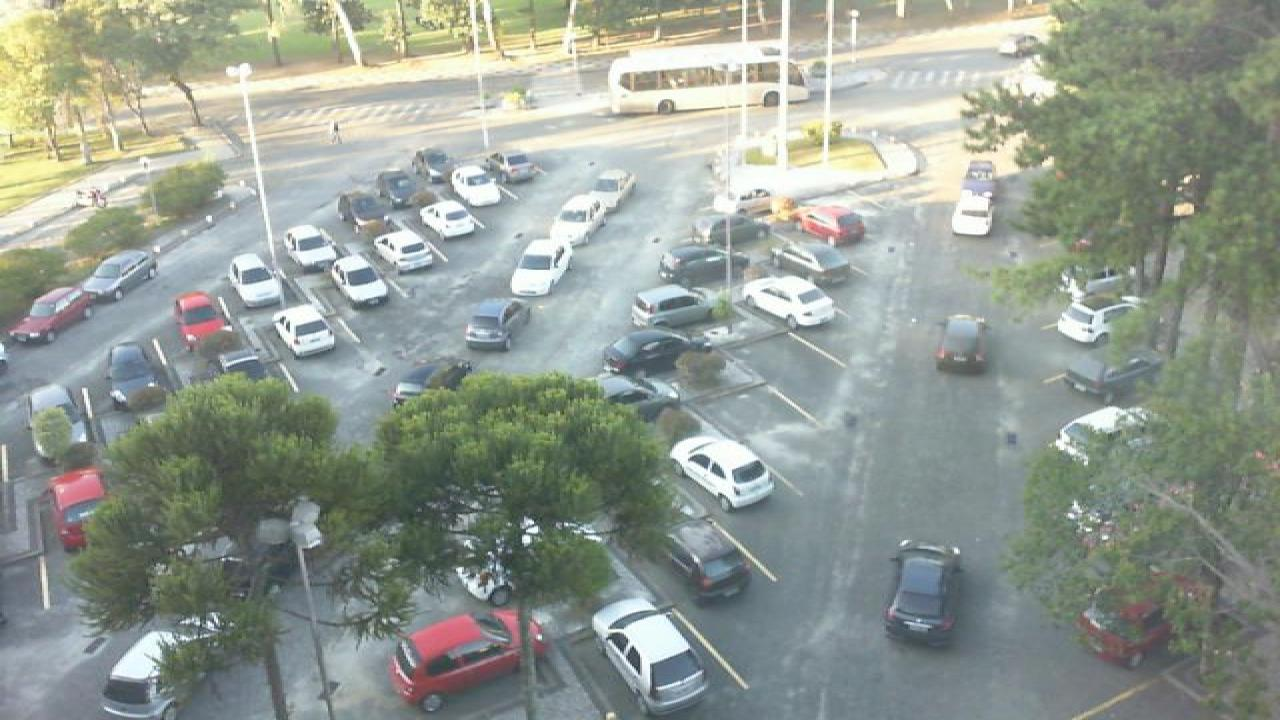Car: (386, 608, 544, 714), (588, 597, 710, 718), (98, 628, 202, 720), (884, 540, 964, 648), (1078, 584, 1178, 670), (670, 435, 778, 511), (654, 523, 752, 601), (740, 274, 840, 328), (48, 468, 112, 551), (1064, 351, 1160, 403), (590, 371, 686, 422), (8, 287, 94, 343), (596, 327, 692, 377), (1054, 292, 1142, 346), (104, 340, 168, 413), (80, 248, 160, 306), (506, 234, 574, 298), (656, 244, 748, 288), (170, 290, 230, 356), (390, 359, 474, 406), (370, 222, 444, 274), (462, 298, 530, 351), (630, 286, 710, 330), (272, 305, 336, 359), (328, 253, 392, 307), (774, 241, 854, 284), (414, 196, 488, 240), (544, 194, 606, 246), (1060, 405, 1140, 445), (224, 252, 282, 307), (448, 163, 510, 208), (798, 204, 866, 245), (336, 190, 396, 235), (690, 214, 772, 246), (1060, 271, 1132, 305), (282, 224, 334, 269), (216, 350, 270, 391), (582, 168, 636, 208), (950, 192, 996, 238), (376, 169, 428, 208), (708, 188, 778, 216), (410, 146, 456, 184), (498, 151, 546, 183), (960, 159, 998, 199)
